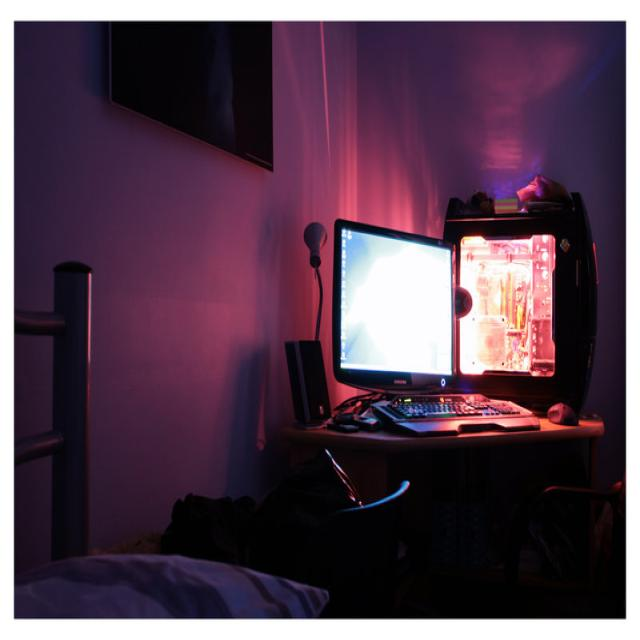Table: (263, 362, 620, 588)
chair: (14, 230, 323, 628)
